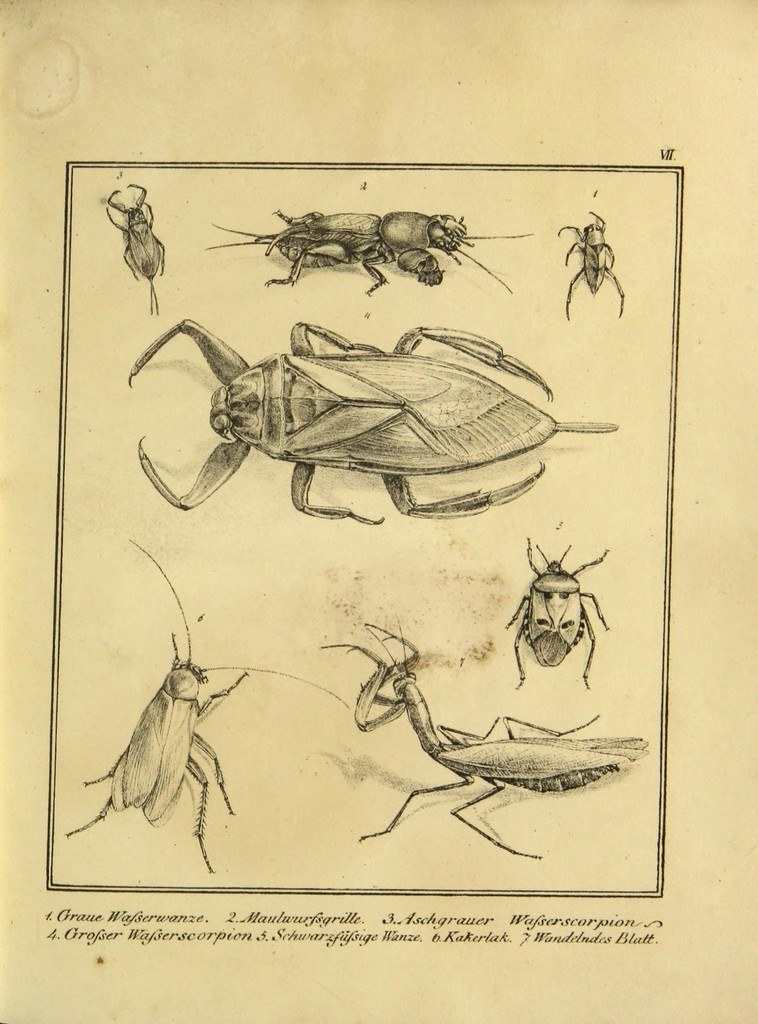insect: (127, 321, 620, 529), (58, 536, 348, 875), (324, 616, 648, 859), (501, 532, 613, 687), (205, 205, 392, 280), (368, 209, 527, 286), (102, 175, 170, 310), (562, 207, 625, 317)
